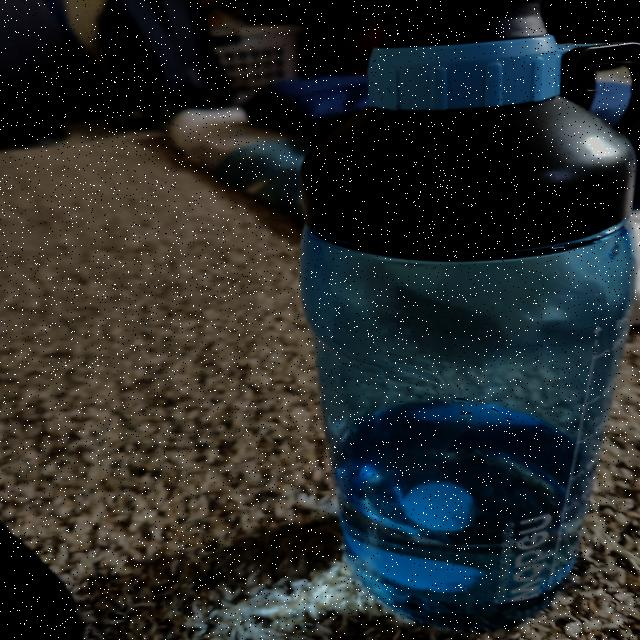bottle: (296, 0, 640, 600)
